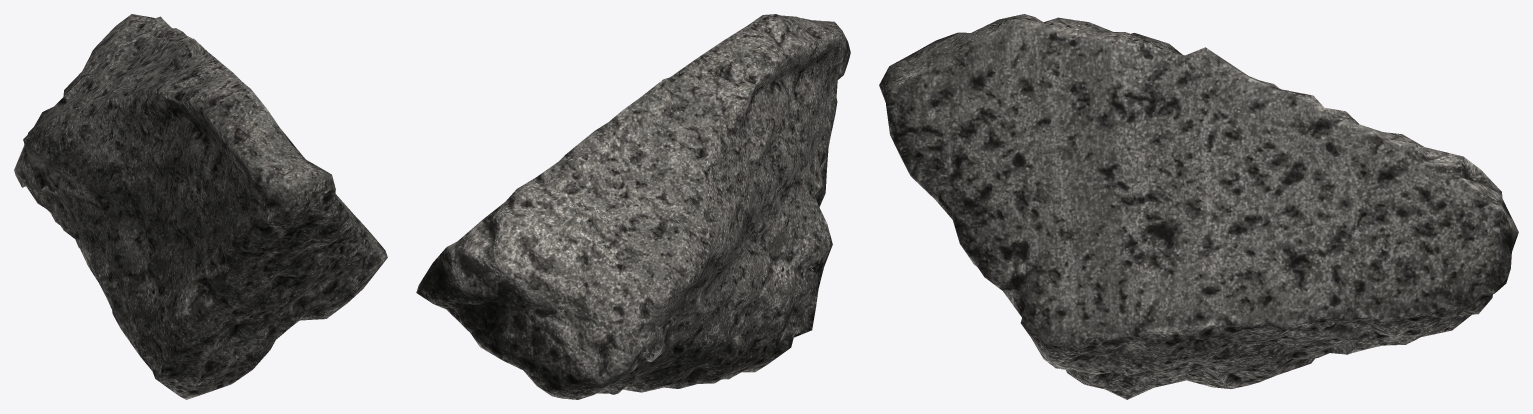
Rendered from moon-rock-a17-70017.glb.
The picture shows the model from 3 angles, left to right: view 1: azimuth 30°, elevation 25°; view 2: azimuth 150°, elevation 25°; view 3: azimuth 270°, elevation 25°; orthographic projection. The views are drawn at different scales.
Parts seen in each view (by area): view 1: moon-rock-a17-70017_LOD0; view 2: moon-rock-a17-70017_LOD0; view 3: moon-rock-a17-70017_LOD0.
Boxes of the visible parts, box(x1,y1,x2,y2) form: moon-rock-a17-70017_LOD0: box(14, 14, 387, 399); moon-rock-a17-70017_LOD0: box(416, 14, 850, 399); moon-rock-a17-70017_LOD0: box(879, 14, 1518, 399).
Size of what is drawn, in the model's own units: 1.6 by 2.2 by 3.38.
Materials: 1 (1 with a texture image).
